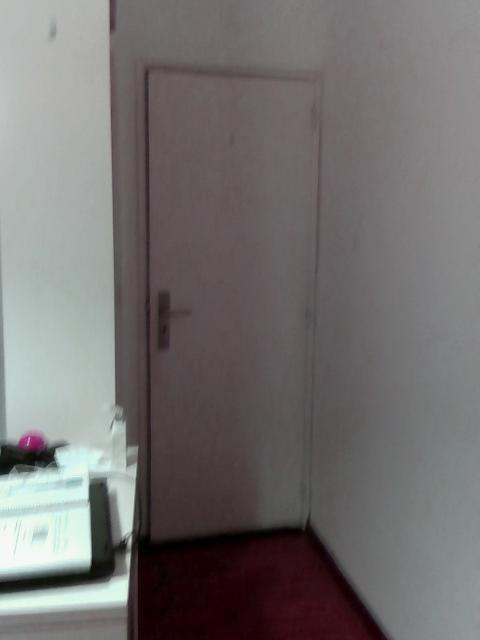closed_door: (137, 58, 320, 546)
